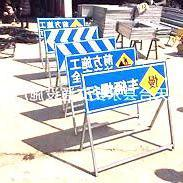sign: (83, 61, 168, 110), (68, 50, 136, 86), (36, 15, 88, 36)
